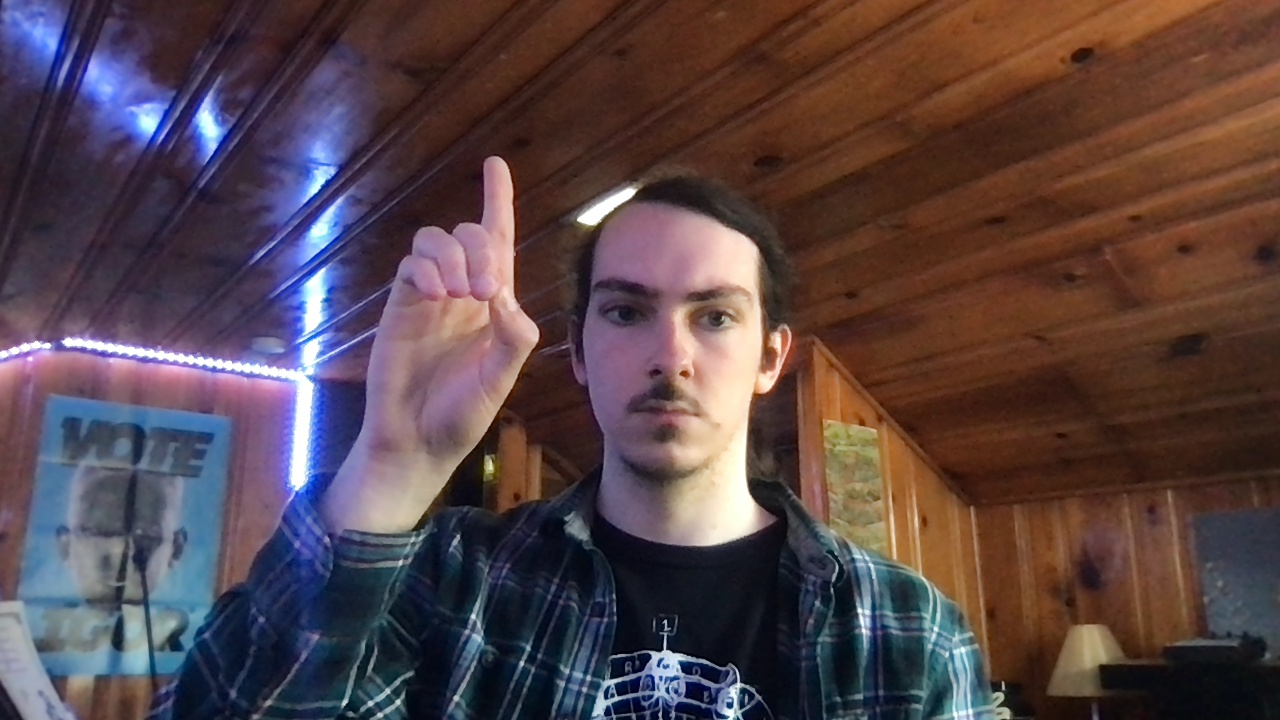d: (361, 153, 545, 461)
